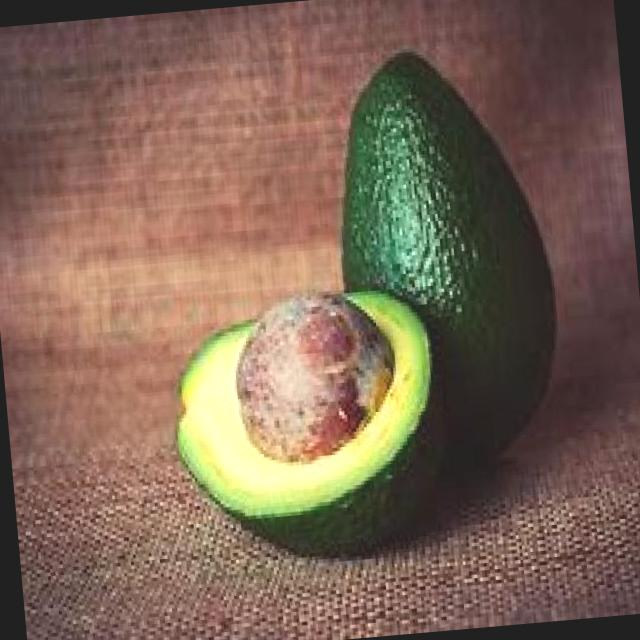avocado: (335, 46, 570, 452), (154, 275, 454, 540)
